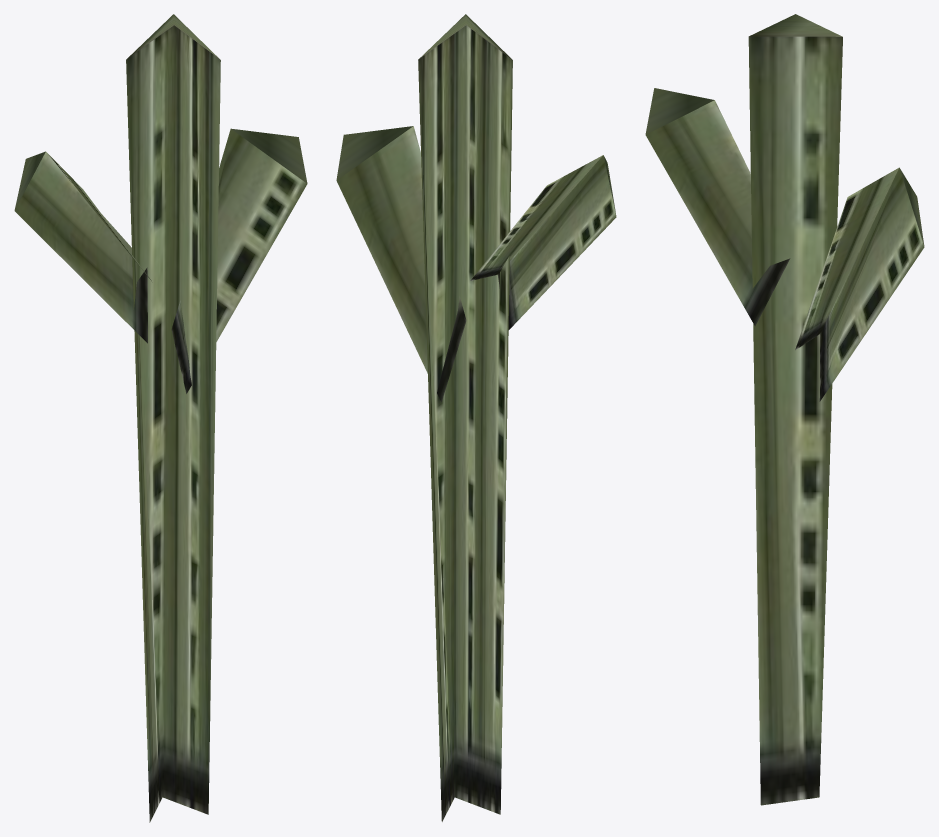
File: cactus3_hdtex.glb
3 views of the same model, side by side, from view 1: azimuth 30°, elevation 25°; view 2: azimuth 150°, elevation 25°; view 3: azimuth 330°, elevation 25° (orthographic).
Visible parts, largest first — view 1: cactus; view 2: cactus; view 3: cactus.
Part boxes in pixels (x1,y1,x2,y2): cactus: [14, 14, 307, 822]; cactus: [336, 14, 616, 821]; cactus: [645, 14, 924, 805].
Size of the model in its own units: 2.59 by 6.88 by 0.7415.
Materials: 1 (1 with a texture image).
